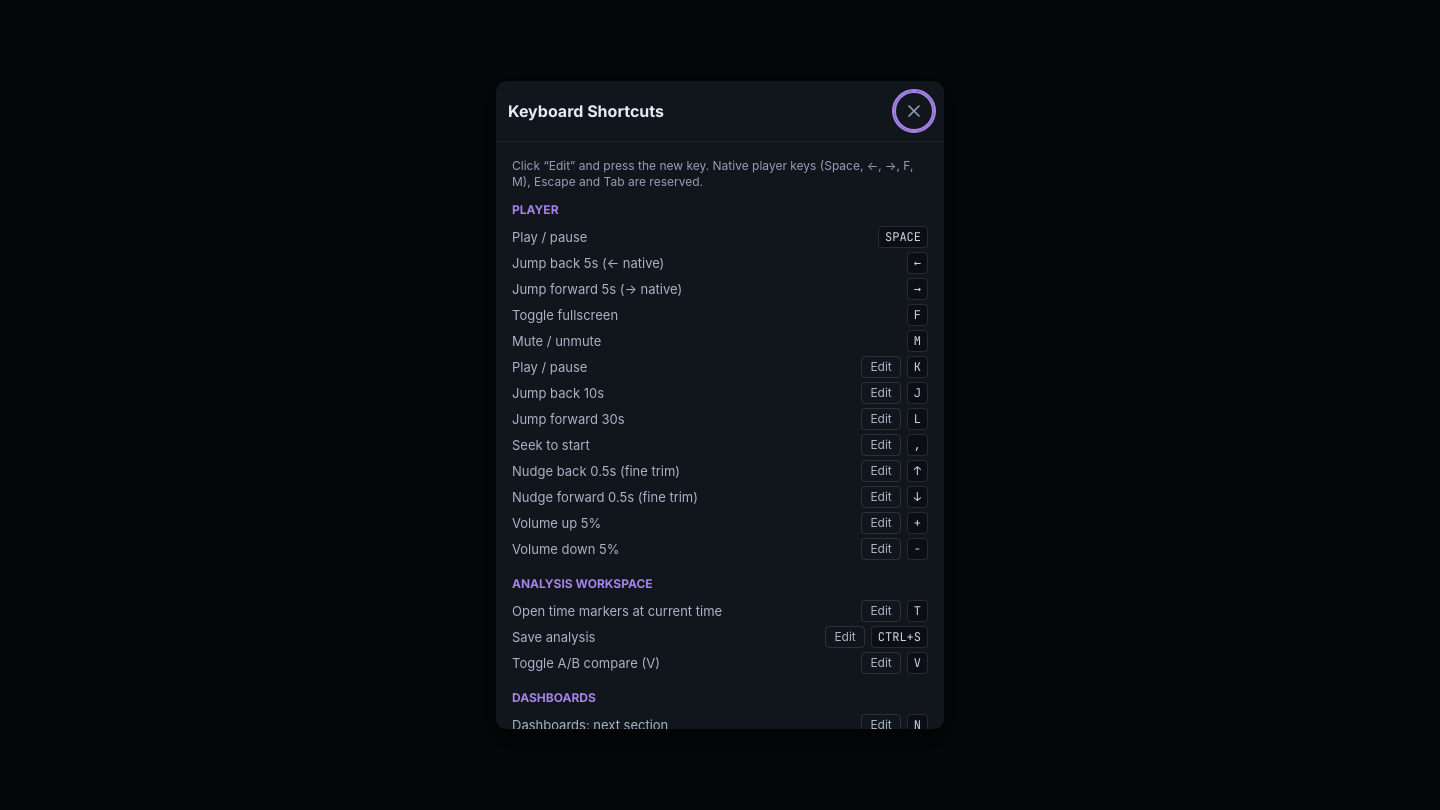
Test: ShortcutHelpModal — atalhos configuráveis (A1) › conflito recusa COM nome do dono e não grava
Click the button with aria-label "edit — jump back 10s": (881, 393) [861,382,901,404]
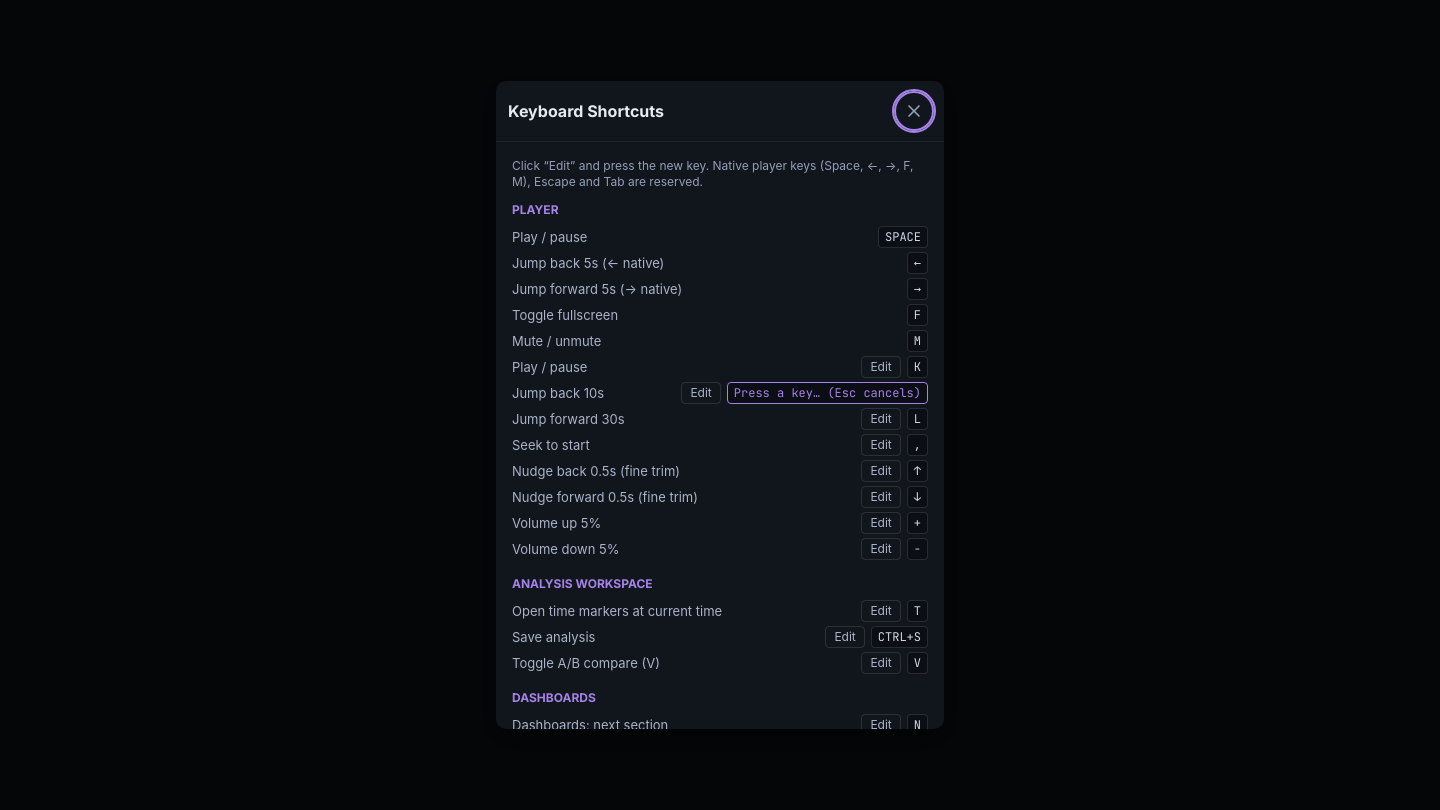
Press t
(page scrolled)
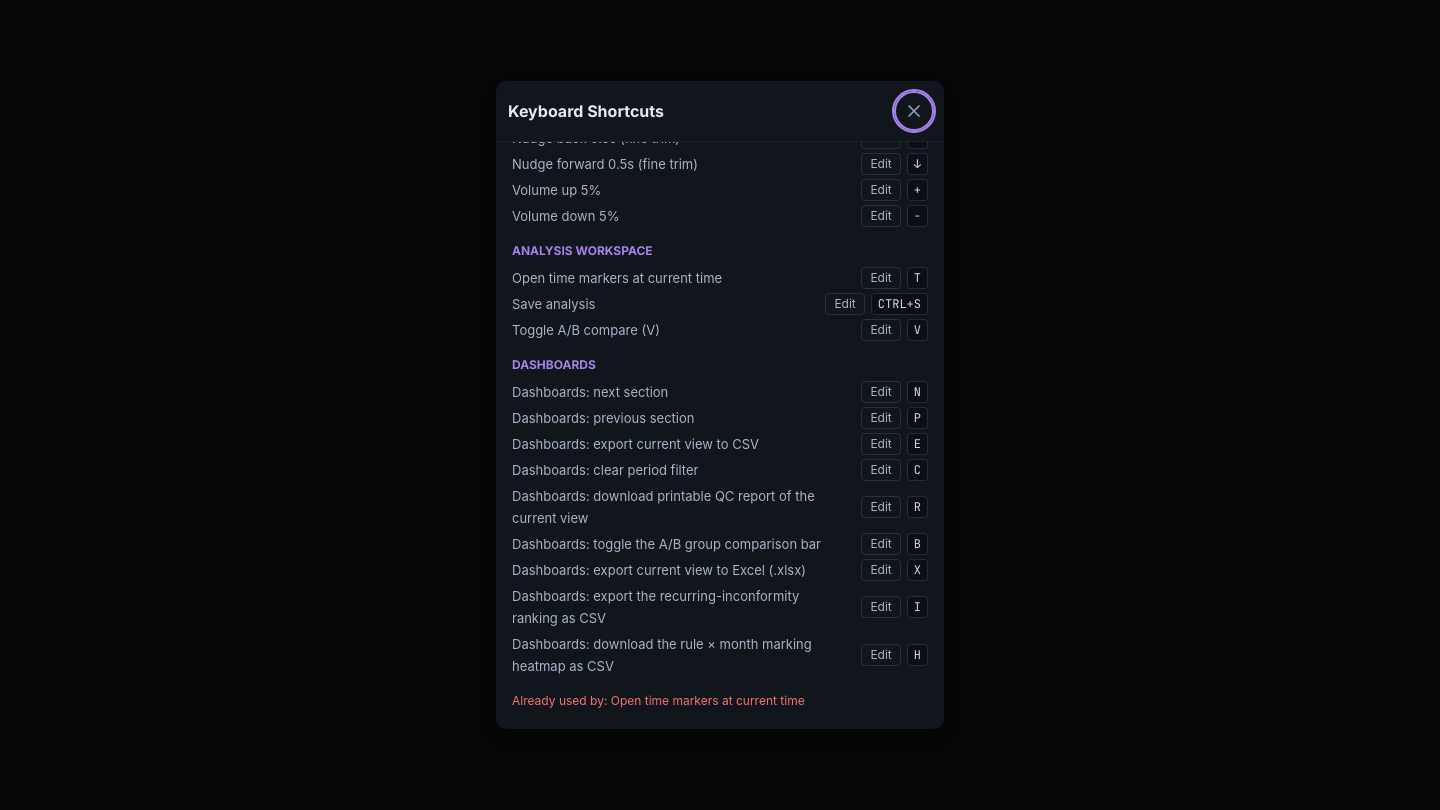
Now the message reads "Already used by: Open time markers at current time", box [512,693,805,708]
